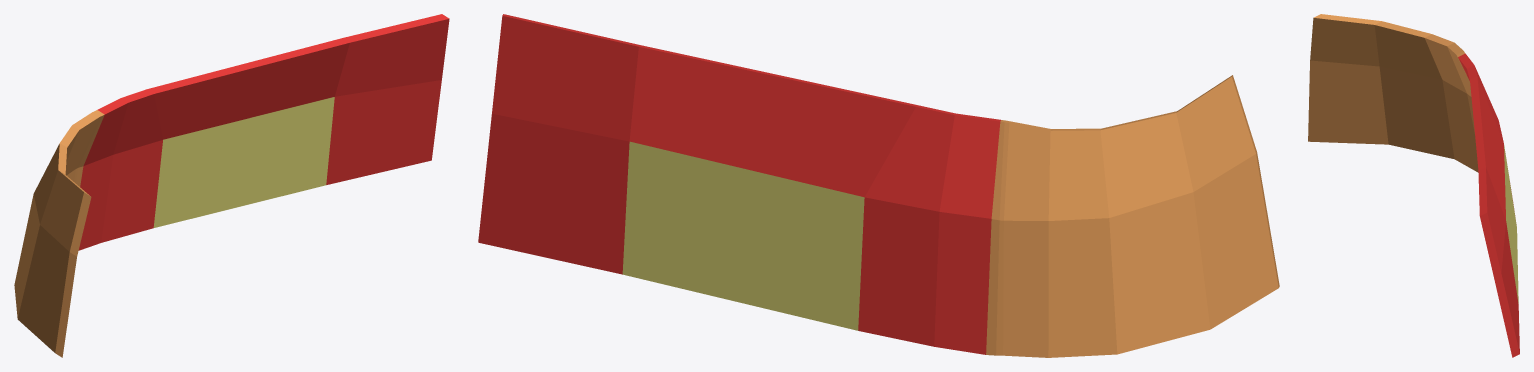
Rendered from Par_Car_1.fbx.
3 renders of one model, left to right at view 1: azimuth 30°, elevation 25°; view 2: azimuth 150°, elevation 25°; view 3: azimuth 270°, elevation 25°, orthographic. The views are drawn at different scales.
Visible parts, largest first — view 1: Par_Car_1; view 2: Par_Car_1; view 3: Par_Car_1.
Part boxes in pixels (x1=…): Par_Car_1: x1=14, y1=14, x2=449, y2=357; Par_Car_1: x1=478, y1=14, x2=1279, y2=357; Par_Car_1: x1=1308, y1=14, x2=1519, y2=357.
Bounding box in the file's own units: 42.16 × 13.27 × 17.47.
Materials: 1 (1 with a texture image).
